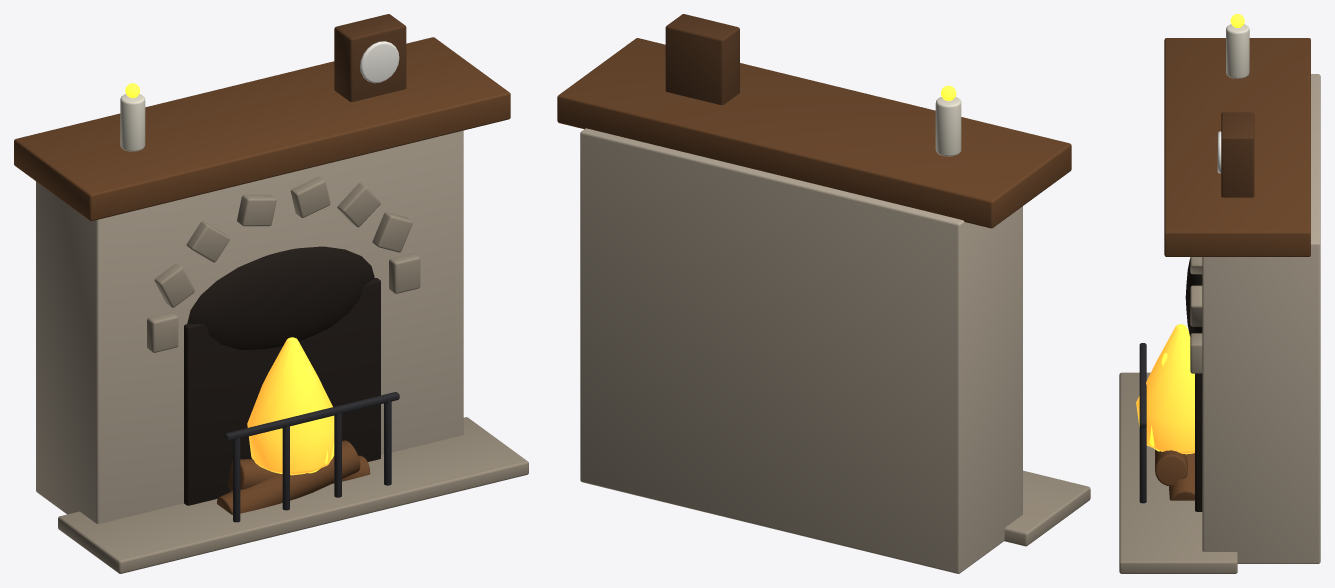
The model's file is fireplace.glb.
The picture shows the model from 3 angles, left to right: view 1: azimuth 30°, elevation 25°; view 2: azimuth 150°, elevation 25°; view 3: azimuth 270°, elevation 25°; orthographic projection. The views are drawn at different scales.
Parts seen in each view (by area): view 1: fireplace; view 2: fireplace; view 3: fireplace.
Boxes of the visible parts, x1=… form: fireplace: x1=14, y1=14, x2=528, y2=573; fireplace: x1=557, y1=14, x2=1090, y2=573; fireplace: x1=1119, y1=14, x2=1320, y2=573.
Size of the model in its own units: 1.95 by 1.92 by 0.85.
